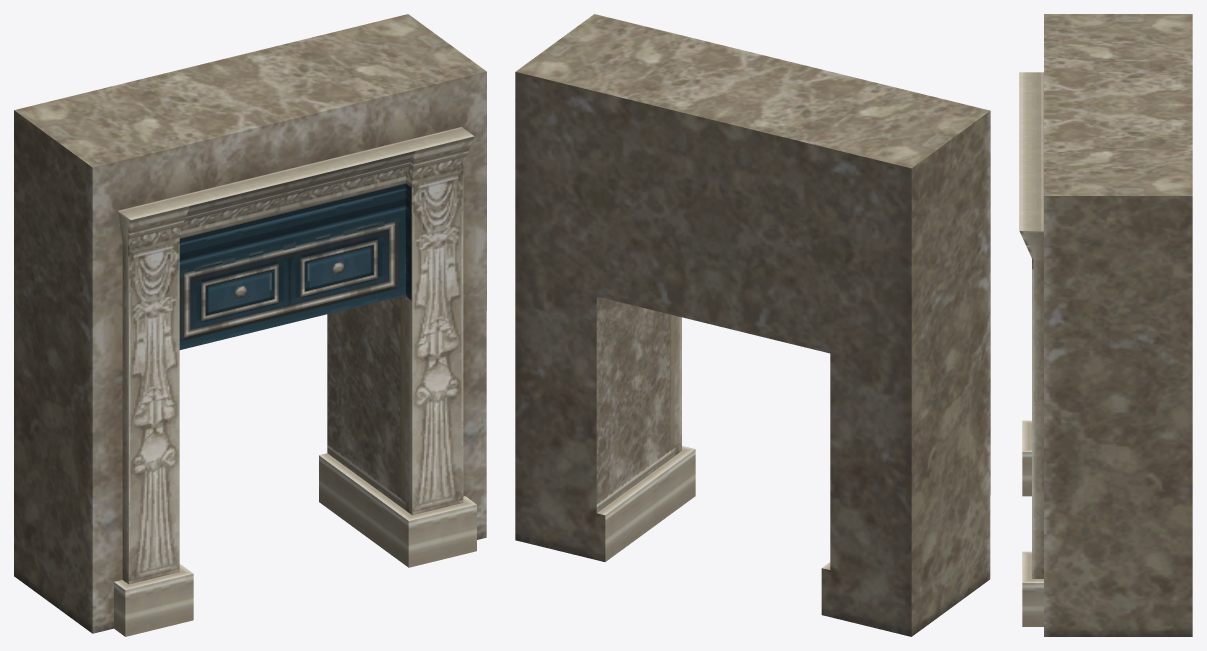
Rendered from furni_0201124_03.FBX.
3 views of the same model, side by side, from view 1: azimuth 30°, elevation 25°; view 2: azimuth 150°, elevation 25°; view 3: azimuth 270°, elevation 25° (orthographic). The views are drawn at different scales.
Visible parts, largest first — view 1: furni_0201124_03; view 2: furni_0201124_03; view 3: furni_0201124_03.
Part boxes in pixels (box(x1,y1,x2,y2)): furni_0201124_03: box(14, 14, 486, 636); furni_0201124_03: box(515, 14, 990, 636); furni_0201124_03: box(1019, 14, 1192, 636).
Bounding box in the file's own units: 160 × 181 × 64.4.
1 material, 1 textured.
